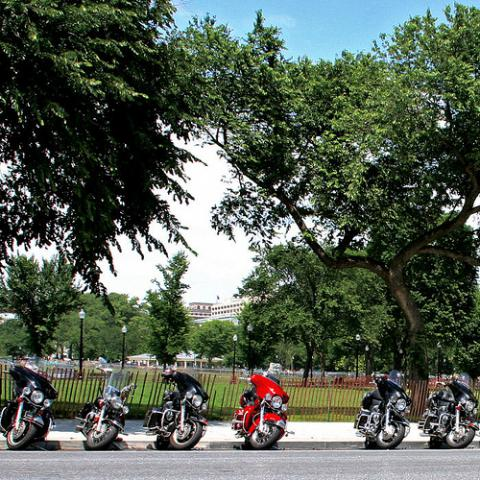motorcycle: (0, 362, 65, 451), (145, 368, 212, 451), (74, 366, 138, 450), (354, 368, 414, 450), (417, 371, 480, 449), (231, 374, 290, 452)
